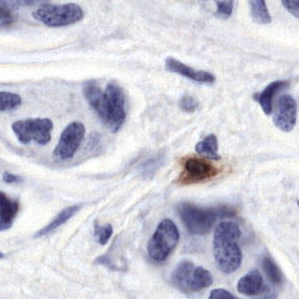Lymphocyte: (179, 156, 218, 185)
